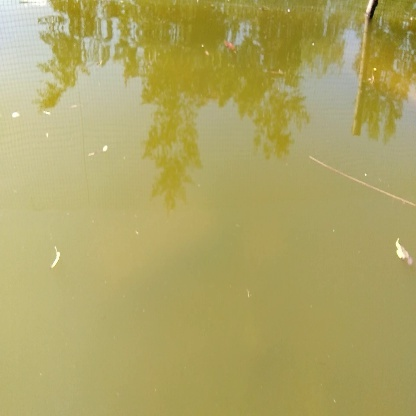branch: (305, 152, 416, 211)
